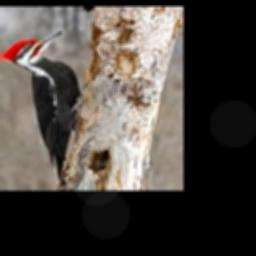Woodpecker: (0, 30, 81, 182)
